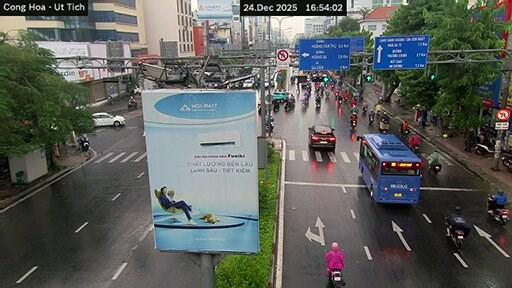motorbike: (445, 220, 464, 249), (488, 207, 508, 224), (488, 208, 508, 224), (329, 270, 345, 287), (475, 140, 494, 154), (78, 135, 89, 151), (429, 163, 441, 175), (379, 121, 388, 133), (128, 98, 137, 109), (410, 144, 419, 154), (284, 101, 293, 111), (266, 123, 273, 133), (315, 97, 320, 108), (368, 114, 374, 123), (350, 119, 356, 128), (400, 129, 409, 135), (337, 97, 342, 107), (273, 103, 279, 111), (107, 95, 112, 104), (362, 106, 367, 113)
